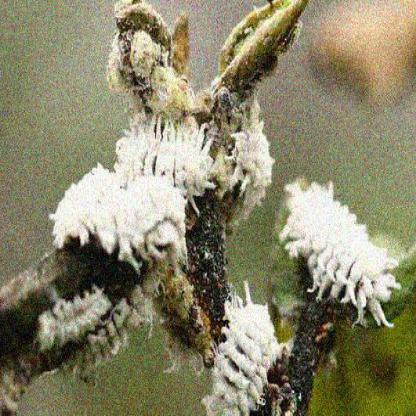mealy bug: (282, 180, 400, 332), (53, 165, 187, 268), (205, 297, 278, 412), (118, 118, 211, 201)
